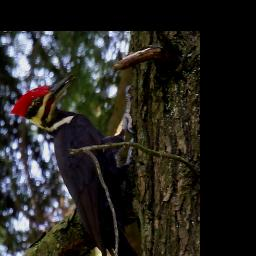Woodpecker: (9, 74, 149, 256)
